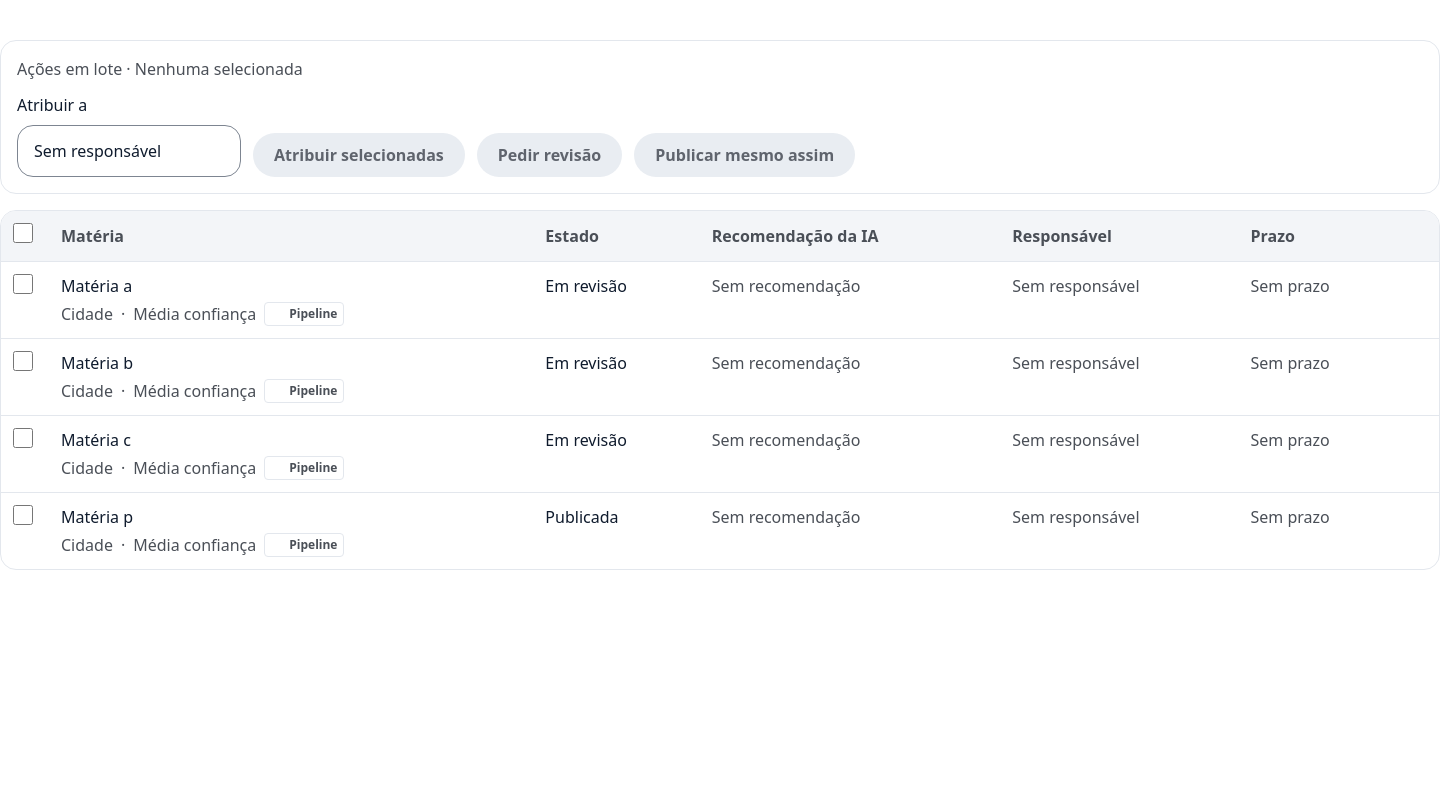
Publicar mesmo assim · diálogo › seleção sem nada publicável (vazio) desabilita a confirmação
Click the checkbox named "Selecionar todas as matérias em revisão desta página" at (23, 233), box [13,223,33,243]
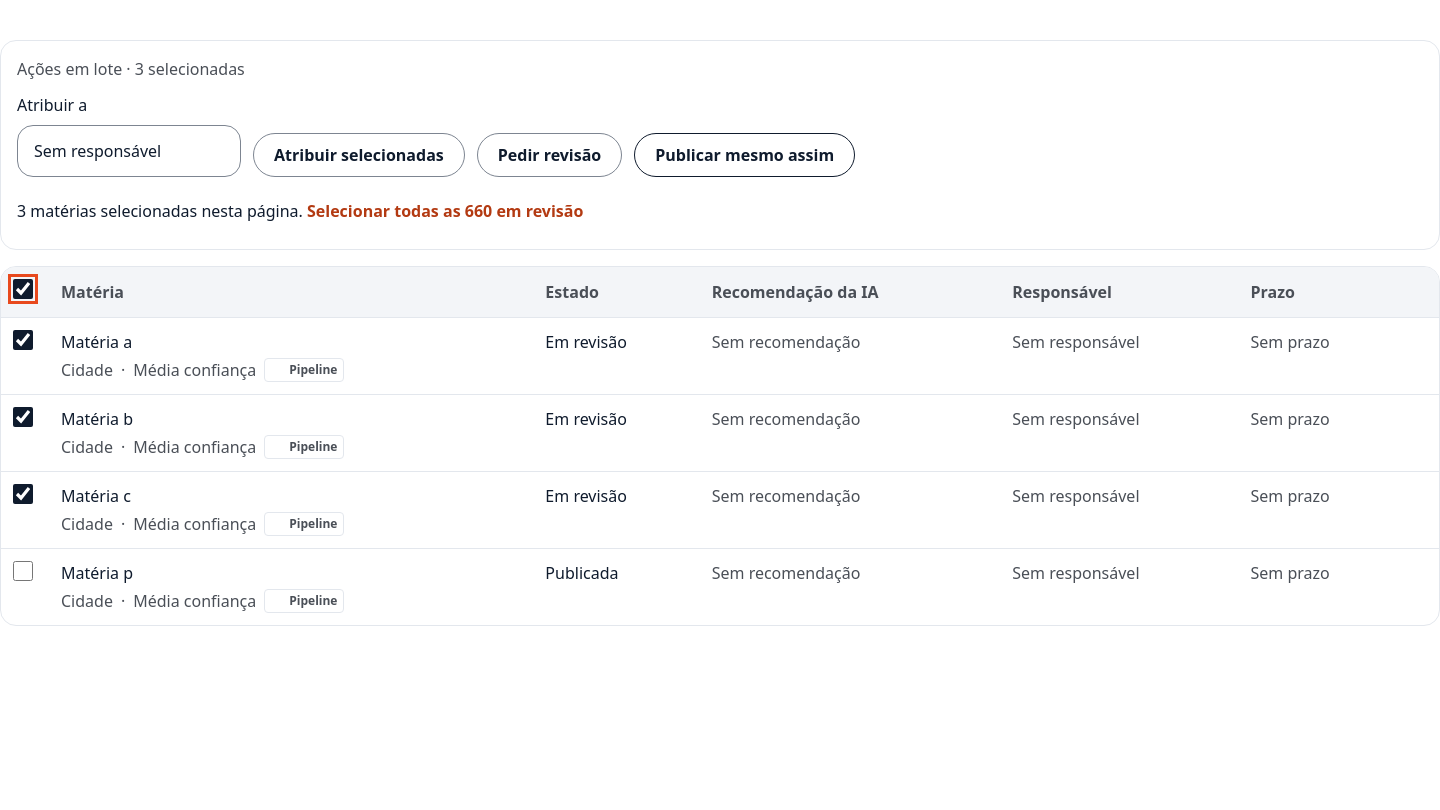
Click the button "Publicar mesmo assim" at (745, 155), box [634,133,855,177]
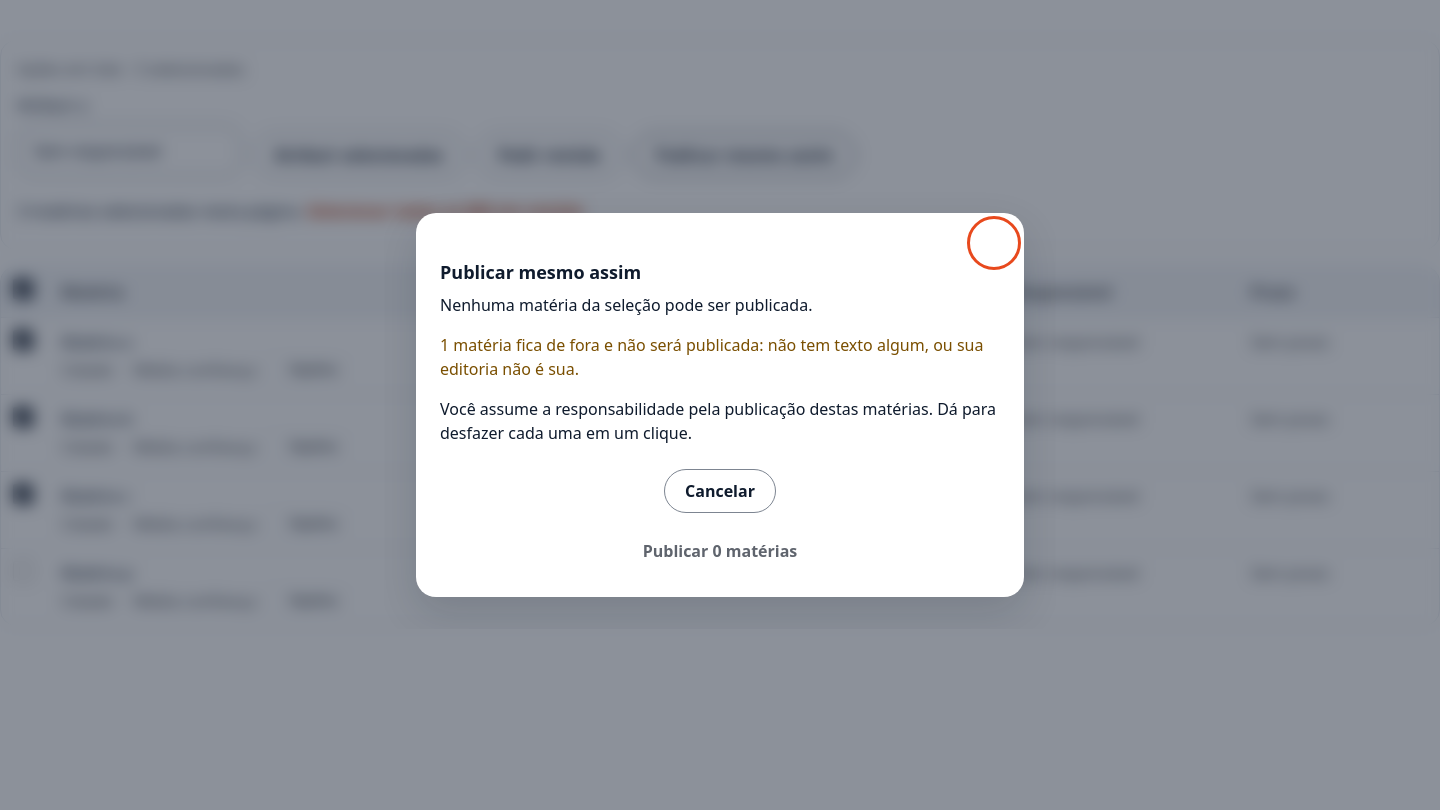
Now the text "Nenhuma matéria da seleção pode ser publicada." is shown, box [440,294,812,316]
Now the button "Publicar 0 matérias" is disabled, box [622,529,818,573]
